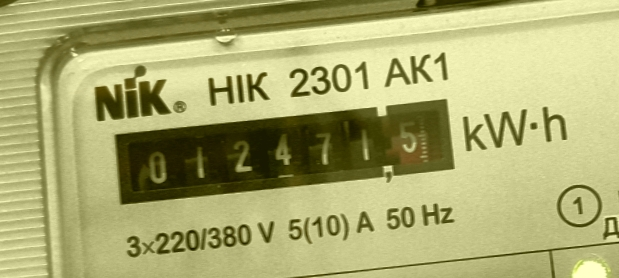0: (144, 146, 170, 184)
1: (192, 142, 207, 179), (357, 124, 371, 161)
2: (231, 135, 254, 173)
4: (272, 129, 293, 167)
5: (396, 115, 421, 154)
7: (311, 127, 335, 167)
screen: (103, 87, 467, 213)
